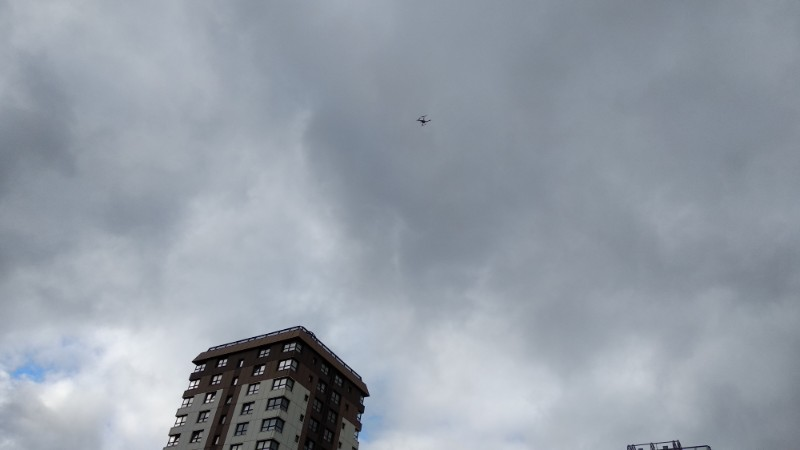drone: (418, 116, 431, 126)
